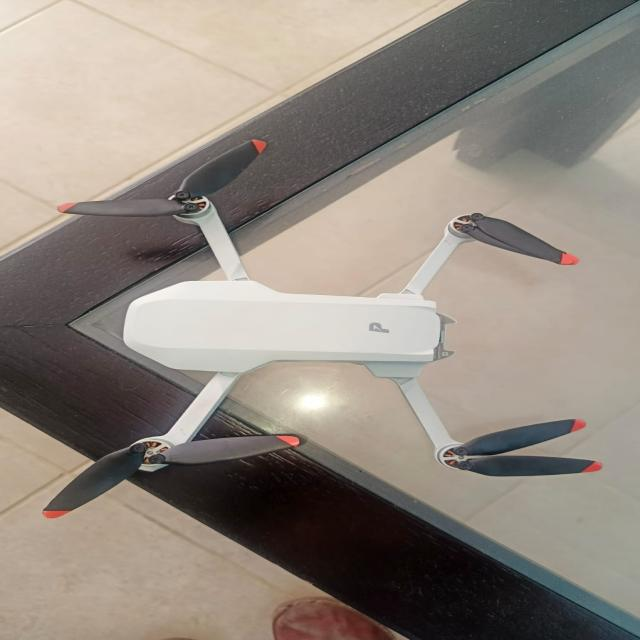dron: (26, 131, 615, 521)
